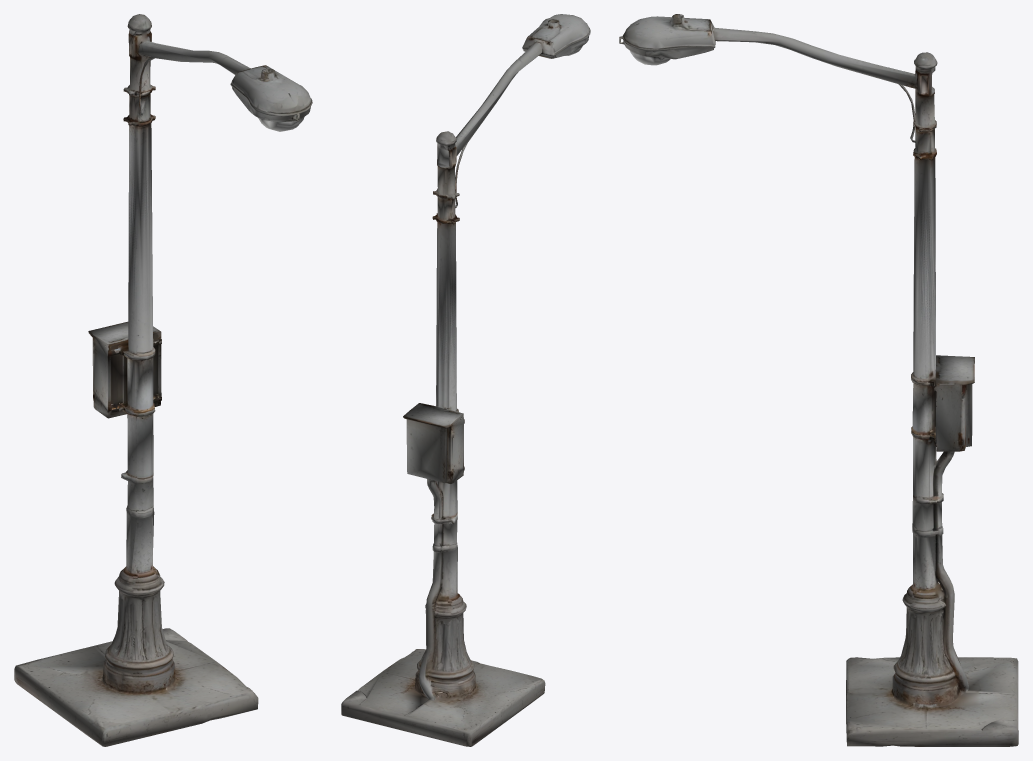
The model's file is streetlight.glb.
3 views of the same model, side by side, from view 1: azimuth 30°, elevation 25°; view 2: azimuth 150°, elevation 25°; view 3: azimuth 270°, elevation 25° (orthographic). The views are drawn at different scales.
Parts seen in each view (by area): view 1: node_0; view 2: node_0; view 3: node_0.
Boxes of the visible parts, box(x1,y1,x2,y2) form: node_0: box(14, 14, 312, 746); node_0: box(341, 14, 590, 746); node_0: box(619, 14, 1018, 746).
Bounding box in the file's own units: 0.2371 × 1.05 × 0.5456.
Materials: 1 (1 with a texture image).
